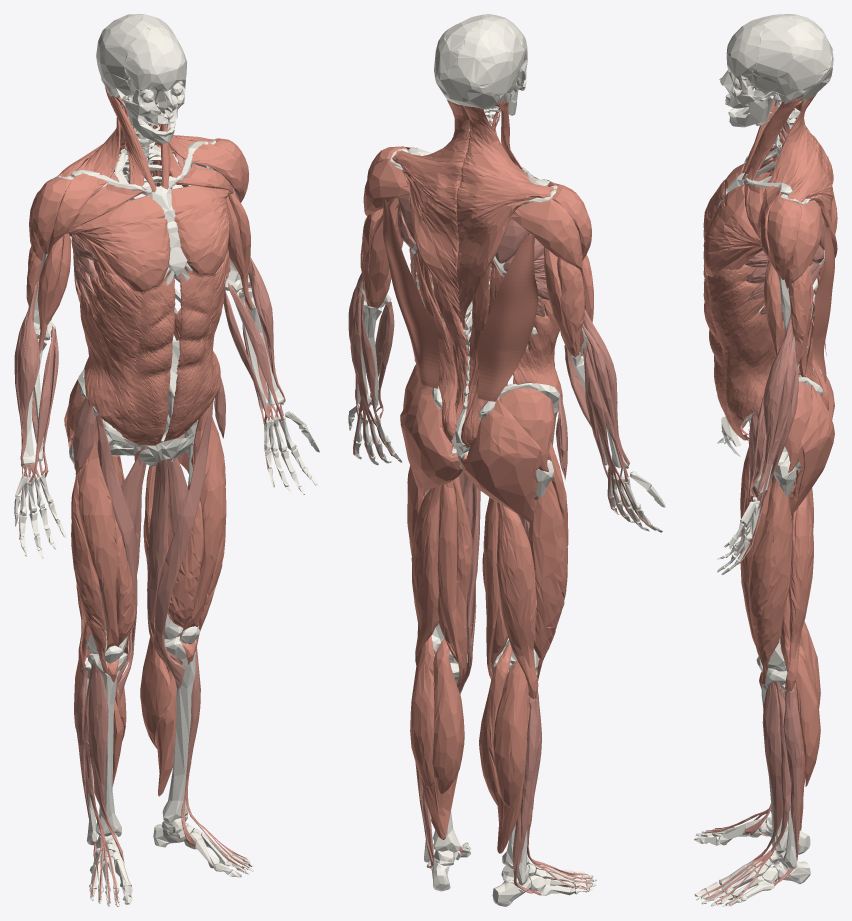
File: anatomy.glb
The picture shows the model from 3 angles, left to right: view 1: azimuth 30°, elevation 25°; view 2: azimuth 150°, elevation 25°; view 3: azimuth 270°, elevation 25°; orthographic projection. The views are drawn at different scales.
Parts seen in each view (by area): view 1: bone, base_muscle, m_quads, m_obliques, m_chest, m_abs, m_shoulders, m_calves, m_biceps, m_neck, m_hamstrings, m_traps (+1 smaller); view 2: bone, base_muscle, m_hamstrings, m_traps, m_calves, m_glutes, m_lats, m_lower_back, m_quads, m_shoulders, m_triceps, m_obliques (+1 smaller); view 3: bone, base_muscle, m_obliques, m_quads, m_chest, m_shoulders, m_traps, m_glutes, m_hamstrings, m_calves, m_lats, m_neck (+4 smaller).
Part boxes in pixels (bbox=[...]): bone: bbox=[14, 14, 319, 906]; base_muscle: bbox=[14, 107, 304, 901]; m_quads: bbox=[71, 407, 226, 682]; m_obliques: bbox=[80, 249, 229, 445]; m_chest: bbox=[65, 163, 233, 309]; m_abs: bbox=[144, 270, 213, 436]; m_shoulders: bbox=[29, 138, 248, 261]; m_calves: bbox=[74, 637, 176, 802]; m_biceps: bbox=[37, 172, 252, 354]; m_neck: bbox=[104, 85, 182, 192]; m_hamstrings: bbox=[76, 455, 187, 676]; m_traps: bbox=[57, 98, 214, 177]; bone: bbox=[348, 14, 665, 906]; base_muscle: bbox=[348, 111, 651, 895]; m_hamstrings: bbox=[411, 476, 538, 699]; m_traps: bbox=[392, 100, 556, 328]; m_calves: bbox=[410, 635, 530, 853]; m_glutes: bbox=[400, 364, 554, 522]; m_lats: bbox=[383, 198, 538, 401]; m_lower_back: bbox=[414, 107, 504, 447]; m_quads: bbox=[407, 442, 568, 680]; m_shoulders: bbox=[363, 146, 591, 271]; m_triceps: bbox=[360, 198, 584, 357]; m_obliques: bbox=[416, 266, 562, 401]; bone: bbox=[694, 14, 833, 906]; base_muscle: bbox=[701, 118, 825, 904]; m_obliques: bbox=[705, 264, 785, 440]; m_quads: bbox=[740, 447, 792, 689]; m_chest: bbox=[703, 157, 773, 293]; m_shoulders: bbox=[757, 152, 822, 288]; m_traps: bbox=[769, 93, 837, 264]; m_glutes: bbox=[785, 374, 834, 515]; m_hamstrings: bbox=[780, 469, 813, 691]; m_calves: bbox=[780, 621, 820, 830]; m_lats: bbox=[812, 226, 834, 382]; m_neck: bbox=[742, 97, 803, 180].
Size of the model in its own units: 0.647 by 1.71 by 0.2601.
